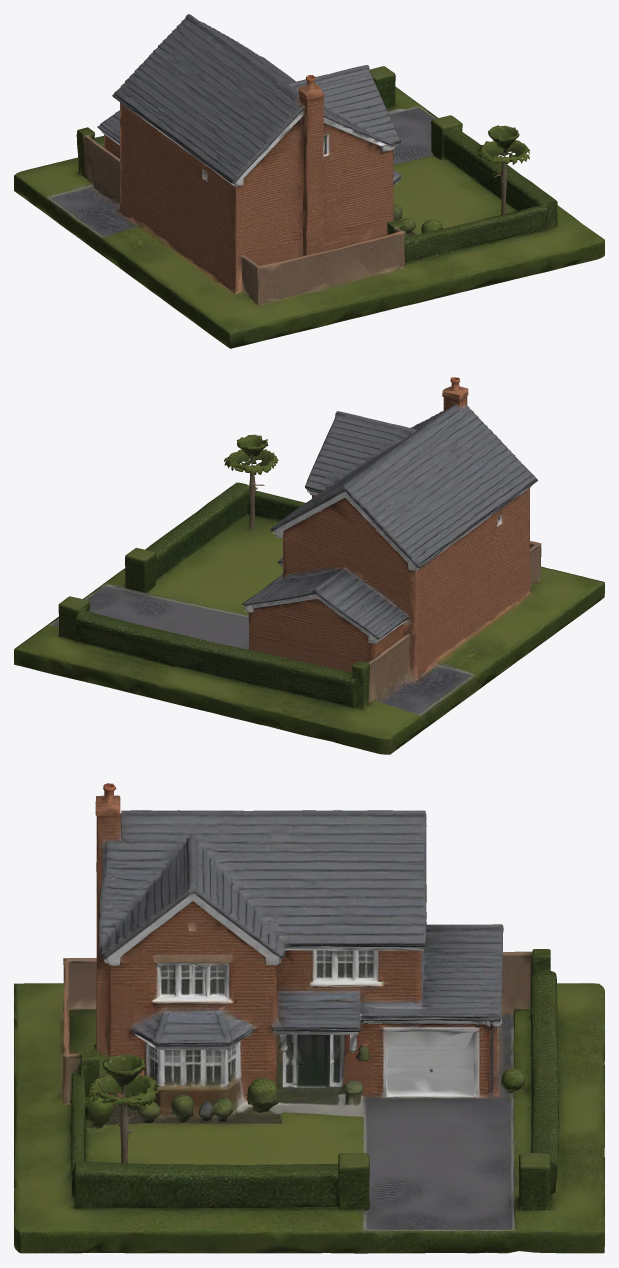
The model's file is home-house1-hf.glb.
The picture shows the model from 3 angles, top to bottom: view 1: azimuth 30°, elevation 25°; view 2: azimuth 150°, elevation 25°; view 3: azimuth 270°, elevation 25°; orthographic projection. The views are drawn at different scales.
Parts seen in each view (by area): view 1: tripo_node_30203b40-d8b4-428b-9a62-d341f1315c85; view 2: tripo_node_30203b40-d8b4-428b-9a62-d341f1315c85; view 3: tripo_node_30203b40-d8b4-428b-9a62-d341f1315c85.
Boxes of the visible parts, x1,y1,x2,y2 form: tripo_node_30203b40-d8b4-428b-9a62-d341f1315c85: [14, 14, 604, 348]; tripo_node_30203b40-d8b4-428b-9a62-d341f1315c85: [14, 377, 604, 754]; tripo_node_30203b40-d8b4-428b-9a62-d341f1315c85: [14, 783, 604, 1253].
Size of the model in its own units: 0.998 by 0.5527 by 1.
Materials: 1 (1 with a texture image).
